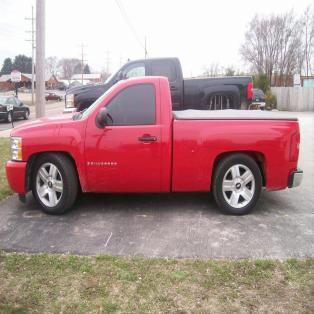Auto: (4, 74, 304, 216)
